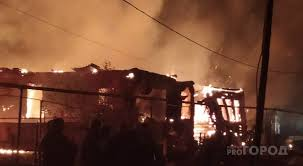fire: (12, 57, 135, 130), (172, 69, 249, 144)
